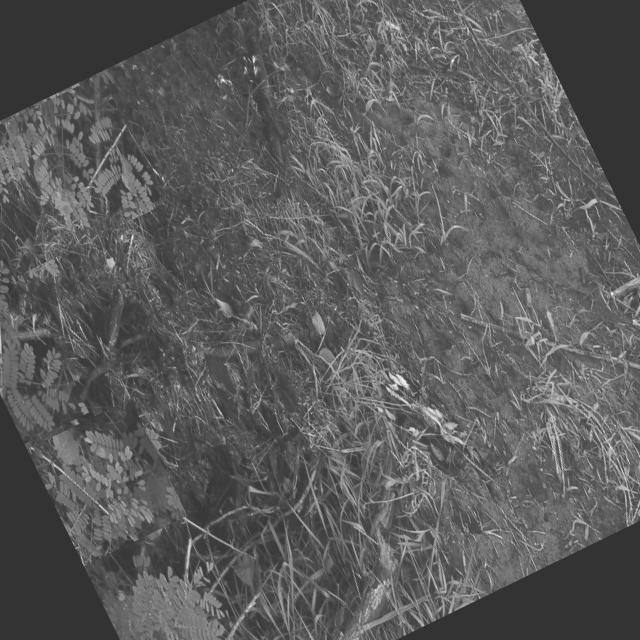Mysore-Thorn-Weed: (0, 74, 164, 276), (27, 398, 187, 566), (0, 242, 89, 443), (97, 542, 275, 640)
